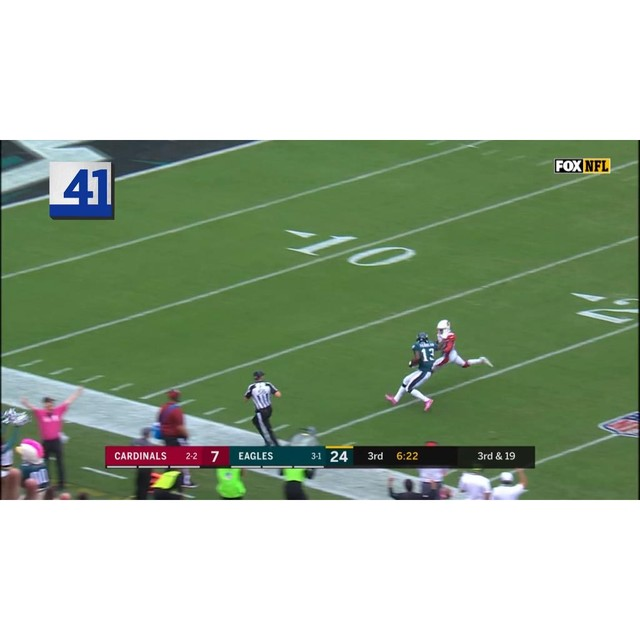american-football-player: (386, 329, 437, 412), (434, 319, 491, 375)
referee: (242, 368, 284, 448)
